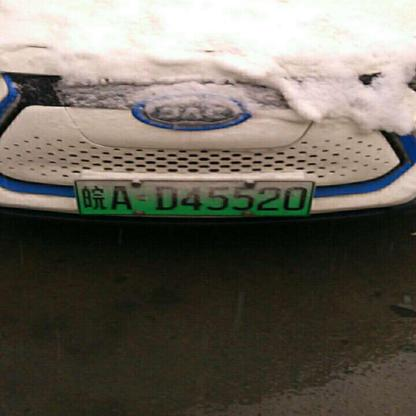lp: (74, 181, 311, 213)
